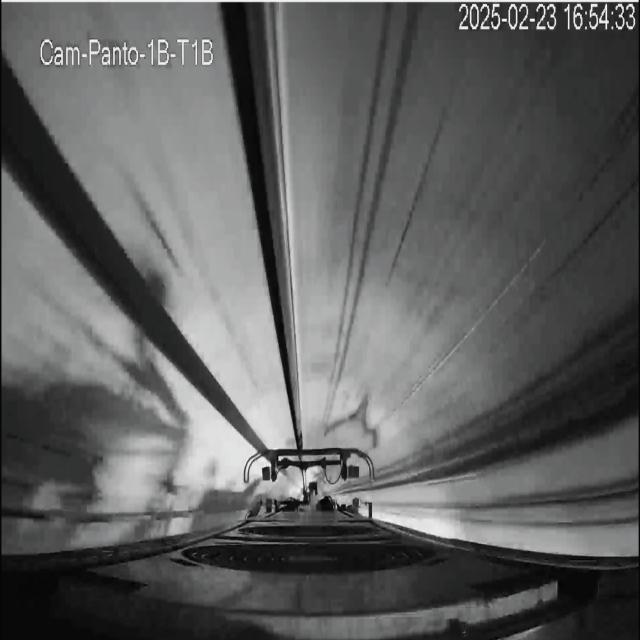Camera Stamp: (39, 34, 219, 69)
Date Stamp: (459, 3, 637, 33)
No - Spark: (247, 448, 377, 520)
